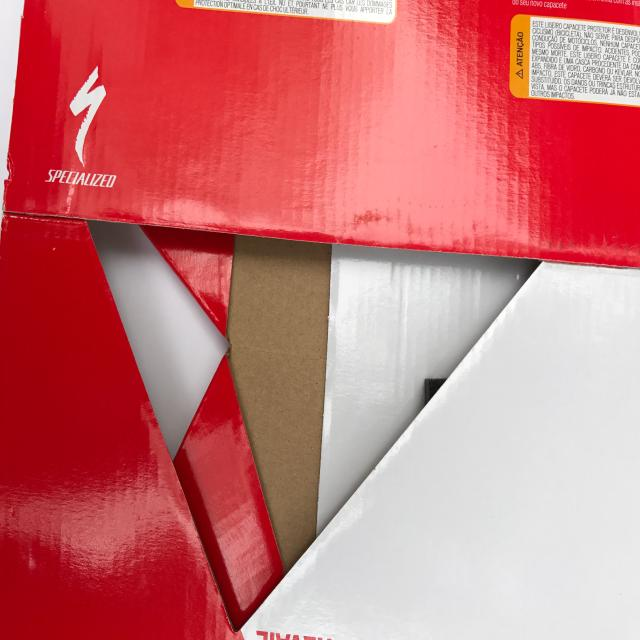cardboard: (2, 0, 639, 268)
